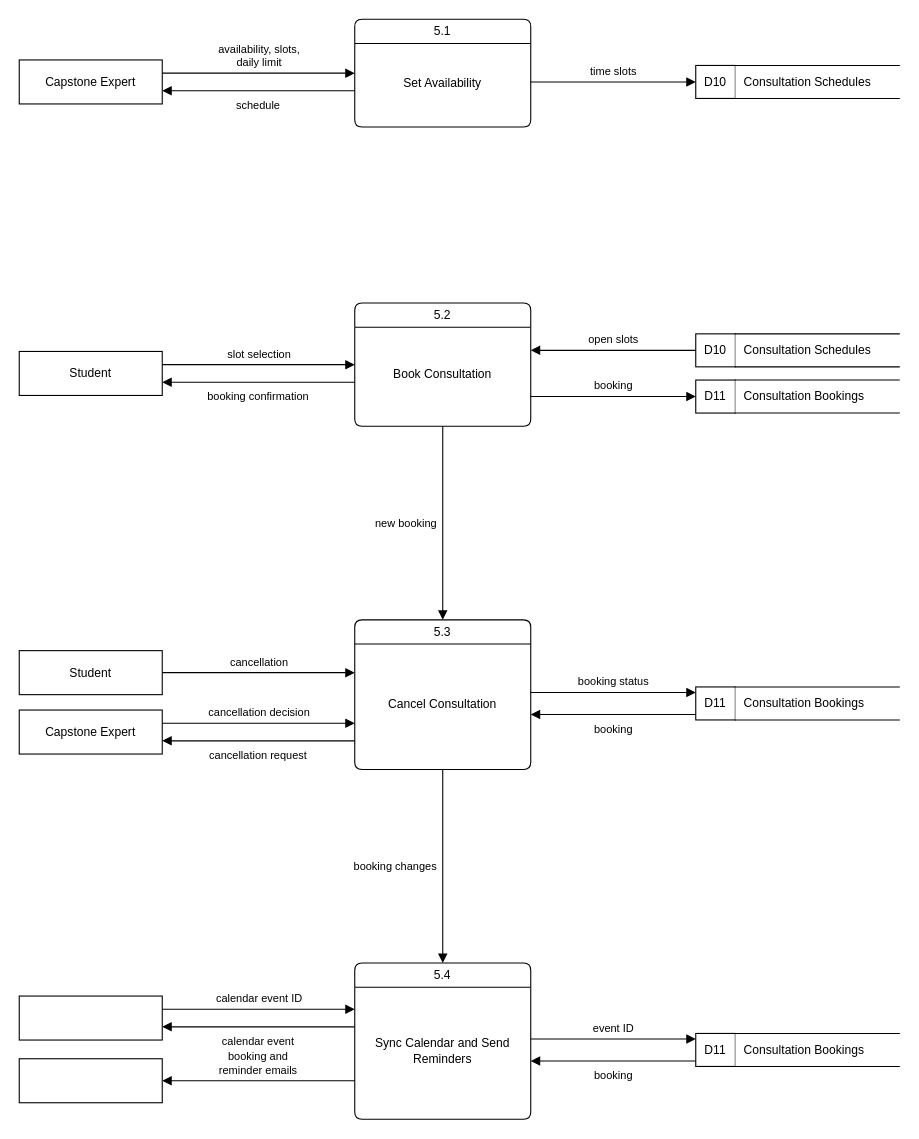
Some shapes in this 919 by 1139 pixel diagram are drawn without their labels. The box of each missing label's shape, as (x1, y1, x2, y2) in pixels:
Google Services: (18, 995, 162, 1040)
Mail Server: (18, 1058, 162, 1103)
